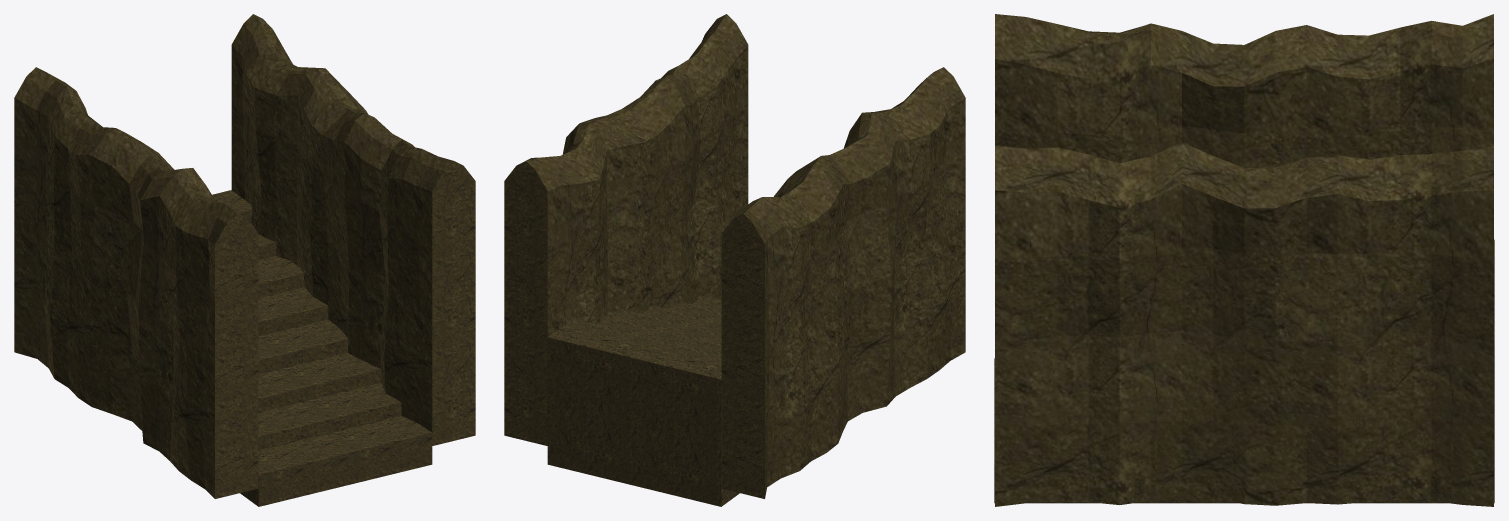
The model's file is cave_stairs_01_limestone.glb.
3 renders of one model, left to right at view 1: azimuth 30°, elevation 25°; view 2: azimuth 150°, elevation 25°; view 3: azimuth 270°, elevation 25°, orthographic. The views are drawn at different scales.
Parts seen in each view (by area): view 1: cave_stairs_01_limestone; view 2: cave_stairs_01_limestone; view 3: cave_stairs_01_limestone.
Boxes of the visible parts, bbox=[...] form: cave_stairs_01_limestone: bbox=[14, 14, 475, 506]; cave_stairs_01_limestone: bbox=[504, 14, 965, 506]; cave_stairs_01_limestone: bbox=[994, 14, 1494, 506].
Size of the model in its own units: 3.09 by 3.28 by 4.01.
2 materials, 2 textured.
